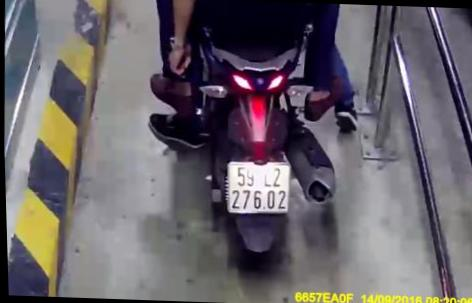LP: (224, 160, 292, 215)
